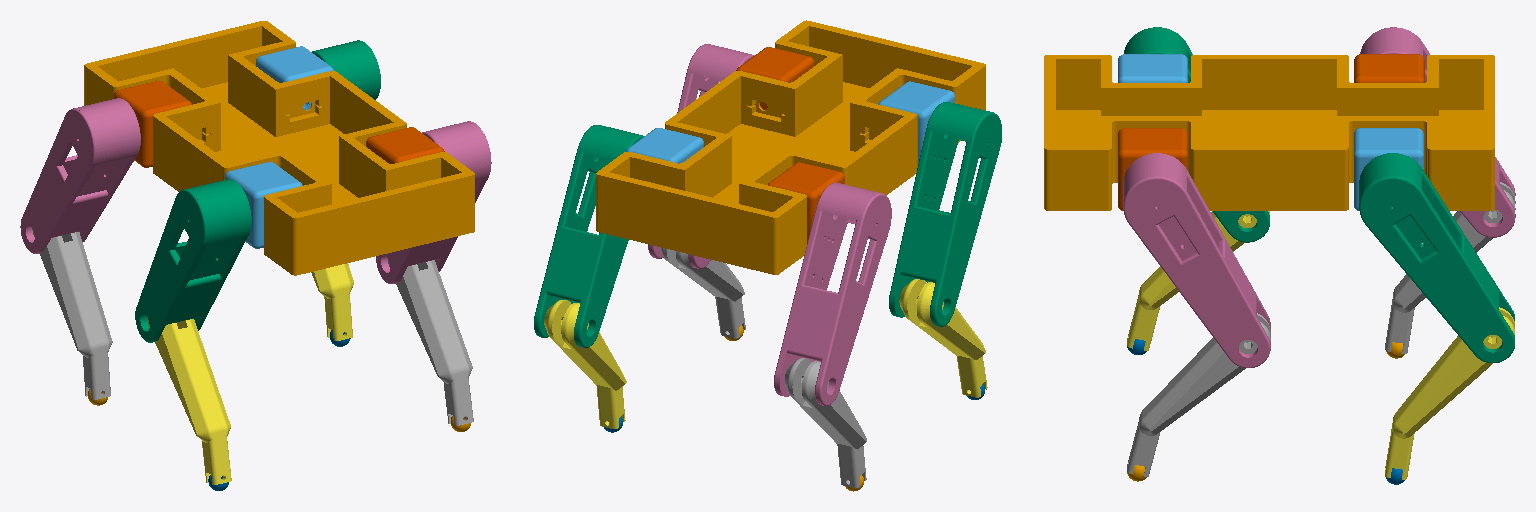
URDF robot description (quadruped):
<?xml version="1.0" ?>
<!-- Generated by generate_urdf.py -->
<!-- All joint frames share body orientation (RPY=0 everywhere) -->
<robot name="quadruped">

  <link name="body">
    <inertial>
      <origin xyz="-0.000000 -0.004697 0.026400" rpy="0 0 0"/>
      <mass value="4.542195"/>
      <inertia ixx="0.11027069" ixy="-0.00000000" ixz="-0.00000000" iyy="0.02958599" iyz="0.00024963" izz="0.13504089"/>
    </inertial>
    <visual>
      <origin xyz="0 0 0" rpy="0.000000 0.000000 -0.000000"/>
      <geometry><mesh filename="assets/body.stl"/></geometry>
    </visual>
    <collision>
      <origin xyz="0 0 0" rpy="0.000000 0.000000 -0.000000"/>
      <geometry><mesh filename="assets/body.stl"/></geometry>
    </collision>
  </link>

  <!-- === leg_1 === -->
  <link name="leg_1_shoulder">
    <inertial>
      <origin xyz="0.009212 0.045838 -0.000013" rpy="0 0 0"/>
      <mass value="0.354965"/>
      <inertia ixx="0.00043260" ixy="0.00000035" ixz="-0.00000007" iyy="0.00039235" iyz="-0.00000000" izz="0.00038325"/>
    </inertial>
    <visual>
      <origin xyz="-0.000052 0.050006 -0.038100" rpy="-0.001374 0.000000 -1.570796"/>
      <geometry><mesh filename="assets/lower_half_of_ball.stl"/></geometry>
    </visual>
    <collision>
      <origin xyz="-0.000052 0.050006 -0.038100" rpy="-0.001374 0.000000 -1.570796"/>
      <geometry><mesh filename="assets/lower_half_of_ball.stl"/></geometry>
    </collision>
    <visual>
      <origin xyz="-0.000052 0.050006 -0.038100" rpy="-0.001374 -0.000000 -1.570796"/>
      <geometry><mesh filename="assets/upper_half_of_ball.stl"/></geometry>
    </visual>
    <collision>
      <origin xyz="-0.000052 0.050006 -0.038100" rpy="-0.001374 -0.000000 -1.570796"/>
      <geometry><mesh filename="assets/upper_half_of_ball.stl"/></geometry>
    </collision>
  </link>
  <joint name="leg_1_abduction" type="revolute">
    <parent link="body"/>
    <child link="leg_1_shoulder"/>
    <origin xyz="0.088900 0.088900 0.038100" rpy="0 0 0"/>
    <axis xyz="-0.000000 1.000000 0.000000"/>
    <limit lower="-0.25" upper="0.25" effort="5.0" velocity="9.5"/>
    <dynamics damping="0.1" friction="0.01"/>
  </joint>

  <link name="leg_1_upper_leg">
    <inertial>
      <origin xyz="0.029178 0.044897 -0.067538" rpy="0 0 0"/>
      <mass value="0.531731"/>
      <inertia ixx="0.00280090" ixy="-0.00001745" ixz="0.00002663" iyy="0.00222631" iyz="0.00110378" izz="0.00130378"/>
    </inertial>
    <visual>
      <origin xyz="0.066675 -0.000000 -0.000092" rpy="-0.001588 0.525098 -1.571592"/>
      <geometry><mesh filename="assets/main_upper_leg.stl"/></geometry>
    </visual>
    <collision>
      <origin xyz="0.066675 -0.000000 -0.000092" rpy="-0.001588 0.525098 -1.571592"/>
      <geometry><mesh filename="assets/main_upper_leg.stl"/></geometry>
    </collision>
  </link>
  <joint name="leg_1_hip" type="revolute">
    <parent link="leg_1_shoulder"/>
    <child link="leg_1_upper_leg"/>
    <origin xyz="0.044450 0.050006 -0.000061" rpy="0 0 0"/>
    <axis xyz="0.999999 0.000000 -0.001374"/>
    <limit lower="-1.18" upper="1.18" effort="10.0" velocity="4.75"/>
    <dynamics damping="0.1" friction="0.01"/>
  </joint>

  <link name="leg_1_lower_leg">
    <inertial>
      <origin xyz="0.023731 -0.049146 -0.059445" rpy="0 0 0"/>
      <mass value="0.361939"/>
      <inertia ixx="0.00126529" ixy="-0.00000078" ixz="-0.00000100" iyy="0.00084027" iyz="-0.00056639" izz="0.00053635"/>
    </inertial>
    <visual>
      <origin xyz="-0.000000 0.000000 0.000000" rpy="0.001702 0.631288 1.571801"/>
      <geometry><mesh filename="assets/lower_leg.stl"/></geometry>
    </visual>
    <collision>
      <origin xyz="-0.000000 0.000000 0.000000" rpy="0.001702 0.631288 1.571801"/>
      <geometry><mesh filename="assets/lower_leg.stl"/></geometry>
    </collision>
  </link>
  <joint name="leg_1_knee" type="revolute">
    <parent link="leg_1_upper_leg"/>
    <child link="leg_1_lower_leg"/>
    <origin xyz="0.009293 0.112654 -0.169126" rpy="0 0 0"/>
    <axis xyz="0.999999 0.000000 -0.001374"/>
    <limit lower="-2.0" upper="2.0" effort="5.0" velocity="9.5"/>
    <dynamics damping="0.1" friction="0.01"/>
  </joint>

  <link name="leg_1_foot">
    <inertial>
      <origin xyz="0.023568 -0.109163 0.040416" rpy="0 0 0"/>
      <mass value="0.008659"/>
      <inertia ixx="0.00000050" ixy="-0.00000000" ixz="0.00000000" iyy="0.00000060" iyz="-0.00000001" izz="0.00000053"/>
    </inertial>
    <visual>
      <origin xyz="0.023569 -0.109006 0.041482" rpy="-0.001389 -0.146122 -1.570594"/>
      <geometry><mesh filename="assets/foot.stl"/></geometry>
    </visual>
    <collision>
      <origin xyz="0.023569 -0.109006 0.041482" rpy="-0.001389 -0.146122 -1.570594"/>
      <geometry><mesh filename="assets/foot.stl"/></geometry>
    </collision>
  </link>
  <joint name="leg_1_foot_joint" type="fixed">
    <parent link="leg_1_lower_leg"/>
    <child link="leg_1_foot"/>
    <origin xyz="0.000000 -0.000000 -0.218600" rpy="0 0 0"/>
  </joint>

  <!-- === leg_2 === -->
  <link name="leg_2_shoulder">
    <inertial>
      <origin xyz="0.009212 0.046632 -0.000013" rpy="0 0 0"/>
      <mass value="0.354965"/>
      <inertia ixx="0.00043260" ixy="0.00000035" ixz="-0.00000007" iyy="0.00039235" iyz="-0.00000000" izz="0.00038325"/>
    </inertial>
    <visual>
      <origin xyz="-0.000052 0.050800 -0.038100" rpy="-0.001374 0.000000 -1.570796"/>
      <geometry><mesh filename="assets/upper_half_of_ball.stl"/></geometry>
    </visual>
    <collision>
      <origin xyz="-0.000052 0.050800 -0.038100" rpy="-0.001374 0.000000 -1.570796"/>
      <geometry><mesh filename="assets/upper_half_of_ball.stl"/></geometry>
    </collision>
    <visual>
      <origin xyz="-0.000052 0.050800 -0.038100" rpy="-0.001374 -0.000000 -1.570796"/>
      <geometry><mesh filename="assets/lower_half_of_ball.stl"/></geometry>
    </visual>
    <collision>
      <origin xyz="-0.000052 0.050800 -0.038100" rpy="-0.001374 -0.000000 -1.570796"/>
      <geometry><mesh filename="assets/lower_half_of_ball.stl"/></geometry>
    </collision>
  </link>
  <joint name="leg_2_abduction" type="revolute">
    <parent link="body"/>
    <child link="leg_2_shoulder"/>
    <origin xyz="0.088900 -0.177800 0.038100" rpy="0 0 0"/>
    <axis xyz="-0.000000 1.000000 0.000000"/>
    <limit lower="-0.25" upper="0.25" effort="5.0" velocity="9.5"/>
    <dynamics damping="0.1" friction="0.01"/>
  </joint>

  <link name="leg_2_upper_leg">
    <inertial>
      <origin xyz="0.029174 0.040917 -0.070022" rpy="0 0 0"/>
      <mass value="0.531731"/>
      <inertia ixx="0.00280090" ixy="-0.00001584" ixz="0.00002751" iyy="0.00235072" iyz="0.00104311" izz="0.00117938"/>
    </inertial>
    <visual>
      <origin xyz="0.066675 -0.000000 -0.000092" rpy="-0.001538 0.467217 -1.571489"/>
      <geometry><mesh filename="assets/main_upper_leg.stl"/></geometry>
    </visual>
    <collision>
      <origin xyz="0.066675 -0.000000 -0.000092" rpy="-0.001538 0.467217 -1.571489"/>
      <geometry><mesh filename="assets/main_upper_leg.stl"/></geometry>
    </collision>
  </link>
  <joint name="leg_2_hip" type="revolute">
    <parent link="leg_2_shoulder"/>
    <child link="leg_2_upper_leg"/>
    <origin xyz="0.044450 0.050800 -0.000061" rpy="0 0 0"/>
    <axis xyz="0.999999 0.000000 -0.001374"/>
    <limit lower="-1.18" upper="1.18" effort="10.0" velocity="4.75"/>
    <dynamics damping="0.1" friction="0.01"/>
  </joint>

  <link name="leg_2_lower_leg">
    <inertial>
      <origin xyz="0.023737 -0.054160 -0.054913" rpy="0 0 0"/>
      <mass value="0.361939"/>
      <inertia ixx="0.00126529" ixy="-0.00000080" ixz="-0.00000086" iyy="0.00073913" iyz="-0.00058422" izz="0.00063750"/>
    </inertial>
    <visual>
      <origin xyz="-0.000000 0.000000 0.000000" rpy="0.001825 0.718971 1.571999"/>
      <geometry><mesh filename="assets/lower_leg.stl"/></geometry>
    </visual>
    <collision>
      <origin xyz="-0.000000 0.000000 0.000000" rpy="0.001825 0.718971 1.571999"/>
      <geometry><mesh filename="assets/lower_leg.stl"/></geometry>
    </collision>
  </link>
  <joint name="leg_2_knee" type="revolute">
    <parent link="leg_2_upper_leg"/>
    <child link="leg_2_lower_leg"/>
    <origin xyz="0.009284 0.102682 -0.175360" rpy="0 0 0"/>
    <axis xyz="0.999999 0.000000 -0.001374"/>
    <limit lower="-2.0" upper="2.0" effort="5.0" velocity="9.5"/>
    <dynamics damping="0.1" friction="0.01"/>
  </joint>

  <link name="leg_2_foot">
    <inertial>
      <origin xyz="0.023582 -0.124344 0.050660" rpy="0 0 0"/>
      <mass value="0.008659"/>
      <inertia ixx="0.00000050" ixy="-0.00000000" ixz="0.00000000" iyy="0.00000060" iyz="-0.00000002" izz="0.00000053"/>
    </inertial>
    <visual>
      <origin xyz="0.023583 -0.124094 0.051708" rpy="-0.001412 -0.233806 -1.570469"/>
      <geometry><mesh filename="assets/foot.stl"/></geometry>
    </visual>
    <collision>
      <origin xyz="0.023583 -0.124094 0.051708" rpy="-0.001412 -0.233806 -1.570469"/>
      <geometry><mesh filename="assets/foot.stl"/></geometry>
    </collision>
  </link>
  <joint name="leg_2_foot_joint" type="fixed">
    <parent link="leg_2_lower_leg"/>
    <child link="leg_2_foot"/>
    <origin xyz="0.000000 -0.000000 -0.218600" rpy="0 0 0"/>
  </joint>

  <!-- === leg_3 === -->
  <link name="leg_3_shoulder">
    <inertial>
      <origin xyz="-0.009211 0.046632 0.000096" rpy="0 0 0"/>
      <mass value="0.354965"/>
      <inertia ixx="0.00043260" ixy="-0.00000035" ixz="-0.00000051" iyy="0.00039235" iyz="0.00000000" izz="0.00038326"/>
    </inertial>
    <visual>
      <origin xyz="-0.000397 0.050800 -0.038098" rpy="3.131179 0.000000 -1.570796"/>
      <geometry><mesh filename="assets/upper_half_of_ball_mirrored.stl"/></geometry>
    </visual>
    <collision>
      <origin xyz="-0.000397 0.050800 -0.038098" rpy="3.131179 0.000000 -1.570796"/>
      <geometry><mesh filename="assets/upper_half_of_ball_mirrored.stl"/></geometry>
    </collision>
    <visual>
      <origin xyz="-0.000397 0.050800 -0.038098" rpy="3.131179 -0.000000 -1.570796"/>
      <geometry><mesh filename="assets/lower_half_of_ball_mirrored.stl"/></geometry>
    </visual>
    <collision>
      <origin xyz="-0.000397 0.050800 -0.038098" rpy="3.131179 -0.000000 -1.570796"/>
      <geometry><mesh filename="assets/lower_half_of_ball_mirrored.stl"/></geometry>
    </collision>
  </link>
  <joint name="leg_3_abduction" type="revolute">
    <parent link="body"/>
    <child link="leg_3_shoulder"/>
    <origin xyz="-0.088900 -0.177800 0.038100" rpy="0 0 0"/>
    <axis xyz="-0.000000 1.000000 0.000000"/>
    <limit lower="-0.25" upper="0.25" effort="5.0" velocity="9.5"/>
    <dynamics damping="0.1" friction="0.01"/>
  </joint>

  <link name="leg_3_upper_leg">
    <inertial>
      <origin xyz="-0.029999 0.040637 -0.069837" rpy="0 0 0"/>
      <mass value="0.531728"/>
      <inertia ixx="0.00279998" ixy="0.00002796" ixz="-0.00004677" iyy="0.00235901" iyz="0.00103812" izz="0.00117191"/>
    </inertial>
    <visual>
      <origin xyz="-0.066671 0.000000 0.000694" rpy="3.129952 0.463186 -1.575997"/>
      <geometry><mesh filename="assets/main_upper_leg_mirrored.stl"/></geometry>
    </visual>
    <collision>
      <origin xyz="-0.066671 0.000000 0.000694" rpy="3.129952 0.463186 -1.575997"/>
      <geometry><mesh filename="assets/main_upper_leg_mirrored.stl"/></geometry>
    </collision>
  </link>
  <joint name="leg_3_hip" type="revolute">
    <parent link="leg_3_shoulder"/>
    <child link="leg_3_upper_leg"/>
    <origin xyz="-0.044448 0.050800 0.000463" rpy="0 0 0"/>
    <axis xyz="0.999946 -0.000000 -0.010413"/>
    <limit lower="-1.18" upper="1.18" effort="10.0" velocity="4.75"/>
    <dynamics damping="0.1" friction="0.01"/>
  </joint>

  <link name="leg_3_lower_leg">
    <inertial>
      <origin xyz="-0.024385 -0.053901 -0.054883" rpy="0 0 0"/>
      <mass value="0.361939"/>
      <inertia ixx="0.00126522" ixy="-0.00000608" ixz="-0.00000659" iyy="0.00074462" iyz="-0.00058368" izz="0.00063207"/>
    </inertial>
    <visual>
      <origin xyz="-0.047622 0.000000 0.000496" rpy="0.013782 0.714224 1.579824"/>
      <geometry><mesh filename="assets/lower_leg.stl"/></geometry>
    </visual>
    <collision>
      <origin xyz="-0.047622 0.000000 0.000496" rpy="0.013782 0.714224 1.579824"/>
      <geometry><mesh filename="assets/lower_leg.stl"/></geometry>
    </collision>
  </link>
  <joint name="leg_3_knee" type="revolute">
    <parent link="leg_3_upper_leg"/>
    <child link="leg_3_lower_leg"/>
    <origin xyz="-0.011355 0.101979 -0.175648" rpy="0 0 0"/>
    <axis xyz="0.999946 -0.000000 -0.010413"/>
    <limit lower="-2.0" upper="2.0" effort="5.0" velocity="9.5"/>
    <dynamics damping="0.1" friction="0.01"/>
  </joint>

  <link name="leg_3_foot">
    <inertial>
      <origin xyz="-0.025566 -0.123554 0.050367" rpy="0 0 0"/>
      <mass value="0.008659"/>
      <inertia ixx="0.00000050" ixy="-0.00000000" ixz="0.00000000" iyy="0.00000060" iyz="-0.00000002" izz="0.00000053"/>
    </inertial>
    <visual>
      <origin xyz="-0.025555 -0.123309 0.051416" rpy="-0.010693 -0.229092 -1.568368"/>
      <geometry><mesh filename="assets/foot.stl"/></geometry>
    </visual>
    <collision>
      <origin xyz="-0.025555 -0.123309 0.051416" rpy="-0.010693 -0.229092 -1.568368"/>
      <geometry><mesh filename="assets/foot.stl"/></geometry>
    </collision>
  </link>
  <joint name="leg_3_foot_joint" type="fixed">
    <parent link="leg_3_lower_leg"/>
    <child link="leg_3_foot"/>
    <origin xyz="0.000000 -0.000000 -0.218600" rpy="0 0 0"/>
  </joint>

  <!-- === leg_4 === -->
  <link name="leg_4_shoulder">
    <inertial>
      <origin xyz="-0.009211 0.046632 0.000085" rpy="0 0 0"/>
      <mass value="0.354965"/>
      <inertia ixx="0.00043260" ixy="-0.00000035" ixz="-0.00000045" iyy="0.00039235" iyz="0.00000000" izz="0.00038326"/>
    </inertial>
    <visual>
      <origin xyz="-0.000349 0.050800 -0.038098" rpy="3.132426 0.000000 -1.570796"/>
      <geometry><mesh filename="assets/upper_half_of_ball_mirrored.stl"/></geometry>
    </visual>
    <collision>
      <origin xyz="-0.000349 0.050800 -0.038098" rpy="3.132426 0.000000 -1.570796"/>
      <geometry><mesh filename="assets/upper_half_of_ball_mirrored.stl"/></geometry>
    </collision>
    <visual>
      <origin xyz="-0.000349 0.050800 -0.038098" rpy="3.132426 -0.000000 -1.570796"/>
      <geometry><mesh filename="assets/lower_half_of_ball_mirrored.stl"/></geometry>
    </visual>
    <collision>
      <origin xyz="-0.000349 0.050800 -0.038098" rpy="3.132426 -0.000000 -1.570796"/>
      <geometry><mesh filename="assets/lower_half_of_ball_mirrored.stl"/></geometry>
    </collision>
  </link>
  <joint name="leg_4_abduction" type="revolute">
    <parent link="body"/>
    <child link="leg_4_shoulder"/>
    <origin xyz="-0.088900 0.088900 0.038100" rpy="0 0 0"/>
    <axis xyz="0.000000 1.000000 0.000000"/>
    <limit lower="-0.25" upper="0.25" effort="5.0" velocity="9.5"/>
    <dynamics damping="0.1" friction="0.01"/>
  </joint>

  <link name="leg_4_upper_leg">
    <inertial>
      <origin xyz="-0.029889 0.044629 -0.067405" rpy="0 0 0"/>
      <mass value="0.531728"/>
      <inertia ixx="0.00280012" ixy="0.00002893" ixz="-0.00004256" iyy="0.00223503" iyz="0.00109982" izz="0.00129575"/>
    </inertial>
    <visual>
      <origin xyz="-0.066672 0.000000 0.000611" rpy="3.131024 0.521104 -1.576058"/>
      <geometry><mesh filename="assets/main_upper_leg_mirrored.stl"/></geometry>
    </visual>
    <collision>
      <origin xyz="-0.066672 0.000000 0.000611" rpy="3.131024 0.521104 -1.576058"/>
      <geometry><mesh filename="assets/main_upper_leg_mirrored.stl"/></geometry>
    </collision>
  </link>
  <joint name="leg_4_hip" type="revolute">
    <parent link="leg_4_shoulder"/>
    <child link="leg_4_upper_leg"/>
    <origin xyz="-0.044448 0.050800 0.000407" rpy="0 0 0"/>
    <axis xyz="0.999958 -0.000000 -0.009166"/>
    <limit lower="-1.18" upper="1.18" effort="10.0" velocity="4.75"/>
    <dynamics damping="0.1" friction="0.01"/>
  </joint>

  <link name="leg_4_lower_leg">
    <inertial>
      <origin xyz="-0.024357 -0.049032 -0.059285" rpy="0 0 0"/>
      <mass value="0.361939"/>
      <inertia ixx="0.00126523" ixy="-0.00000519" ixz="-0.00000670" iyy="0.00084245" iyz="-0.00056578" izz="0.00053424"/>
    </inertial>
    <visual>
      <origin xyz="-0.047623 0.000000 0.000437" rpy="0.011339 0.629341 1.577471"/>
      <geometry><mesh filename="assets/lower_leg.stl"/></geometry>
    </visual>
    <collision>
      <origin xyz="-0.047623 0.000000 0.000437" rpy="0.011339 0.629341 1.577471"/>
      <geometry><mesh filename="assets/lower_leg.stl"/></geometry>
    </collision>
  </link>
  <joint name="leg_4_knee" type="revolute">
    <parent link="leg_4_upper_leg"/>
    <child link="leg_4_lower_leg"/>
    <origin xyz="-0.011079 0.111981 -0.169465" rpy="0 0 0"/>
    <axis xyz="0.999958 -0.000000 -0.009166"/>
    <limit lower="-2.0" upper="2.0" effort="5.0" velocity="9.5"/>
    <dynamics damping="0.1" friction="0.01"/>
  </joint>

  <link name="leg_4_foot">
    <inertial>
      <origin xyz="-0.025447 -0.108821 0.040465" rpy="0 0 0"/>
      <mass value="0.008659"/>
      <inertia ixx="0.00000050" ixy="-0.00000000" ixz="0.00000000" iyy="0.00000060" iyz="-0.00000001" izz="0.00000053"/>
    </inertial>
    <visual>
      <origin xyz="-0.025437 -0.108666 0.041531" rpy="-0.009262 -0.144200 -1.569465"/>
      <geometry><mesh filename="assets/foot.stl"/></geometry>
    </visual>
    <collision>
      <origin xyz="-0.025437 -0.108666 0.041531" rpy="-0.009262 -0.144200 -1.569465"/>
      <geometry><mesh filename="assets/foot.stl"/></geometry>
    </collision>
  </link>
  <joint name="leg_4_foot_joint" type="fixed">
    <parent link="leg_4_lower_leg"/>
    <child link="leg_4_foot"/>
    <origin xyz="0.000000 -0.000000 -0.218600" rpy="0 0 0"/>
  </joint>

</robot>

--- Render facts (derived) ---
3 views of the same robot in one strip: view 1: azimuth 30°, elevation 25°; view 2: azimuth 150°, elevation 25°; view 3: azimuth 270°, elevation 25° (orthographic).
Model quadruped with 17 links and 16 joints (12 revolute, 4 fixed), rooted at body, posed all joints at 0.
Visible links, largest first — view 1: body, leg_3_upper_leg, leg_4_upper_leg, leg_4_lower_leg, leg_3_lower_leg, leg_2_lower_leg, leg_2_upper_leg, leg_3_shoulder, leg_4_shoulder, leg_1_upper_leg, leg_1_lower_leg, leg_1_shoulder (+1 smaller); view 2: body, leg_3_upper_leg, leg_4_upper_leg, leg_1_upper_leg, leg_4_lower_leg, leg_1_lower_leg, leg_3_lower_leg, leg_2_lower_leg, leg_2_upper_leg, leg_4_shoulder, leg_3_shoulder, leg_2_shoulder (+1 smaller); view 3: body, leg_1_upper_leg, leg_2_upper_leg, leg_2_lower_leg, leg_1_lower_leg, leg_4_upper_leg, leg_3_upper_leg, leg_4_lower_leg, leg_3_lower_leg, leg_2_shoulder, leg_1_shoulder, leg_4_shoulder (+1 smaller).
Boxes of the visible links, left/top/right/bottom form: body: left=84, top=21, right=474, bottom=275; leg_3_upper_leg: left=135, top=179, right=251, bottom=342; leg_4_upper_leg: left=20, top=98, right=140, bottom=253; leg_4_lower_leg: left=32, top=228, right=112, bottom=399; leg_3_lower_leg: left=147, top=317, right=231, bottom=484; leg_2_lower_leg: left=388, top=260, right=473, bottom=425; leg_2_upper_leg: left=376, top=121, right=491, bottom=283; leg_3_shoulder: left=225, top=162, right=302, bottom=248; leg_4_shoulder: left=114, top=81, right=191, bottom=167; leg_1_upper_leg: left=312, top=40, right=380, bottom=99; leg_1_lower_leg: left=311, top=263, right=353, bottom=340; leg_1_shoulder: left=256, top=46, right=333, bottom=109; body: left=596, top=20, right=985, bottom=274; leg_3_upper_leg: left=889, top=102, right=1001, bottom=326; leg_4_upper_leg: left=774, top=183, right=891, bottom=405; leg_1_upper_leg: left=534, top=125, right=643, bottom=347; leg_4_lower_leg: left=785, top=358, right=866, bottom=487; leg_1_lower_leg: left=544, top=300, right=626, bottom=428; leg_3_lower_leg: left=899, top=279, right=987, bottom=397; leg_2_lower_leg: left=659, top=247, right=745, bottom=338; leg_2_upper_leg: left=648, top=44, right=754, bottom=268; leg_4_shoulder: left=768, top=162, right=844, bottom=242; leg_3_shoulder: left=878, top=81, right=954, bottom=163; leg_2_shoulder: left=736, top=47, right=813, bottom=109; body: left=1044, top=55, right=1494, bottom=210; leg_1_upper_leg: left=1359, top=153, right=1514, bottom=362; leg_2_upper_leg: left=1123, top=153, right=1270, bottom=367; leg_2_lower_leg: left=1127, top=313, right=1270, bottom=476; leg_1_lower_leg: left=1385, top=307, right=1514, bottom=479; leg_4_upper_leg: left=1360, top=27, right=1515, bottom=237; leg_3_upper_leg: left=1124, top=27, right=1269, bottom=242; leg_4_lower_leg: left=1385, top=182, right=1515, bottom=353; leg_3_lower_leg: left=1127, top=211, right=1269, bottom=350; leg_2_shoulder: left=1118, top=128, right=1187, bottom=210; leg_1_shoulder: left=1354, top=128, right=1423, bottom=210; leg_4_shoulder: left=1354, top=54, right=1424, bottom=82.
Size in the robot's own frame: 0.4022 by 0.5311 by 0.3982 metres.
Meshes: 9 distinct files referenced, 21 mesh visuals loaded (9 binary STL).
